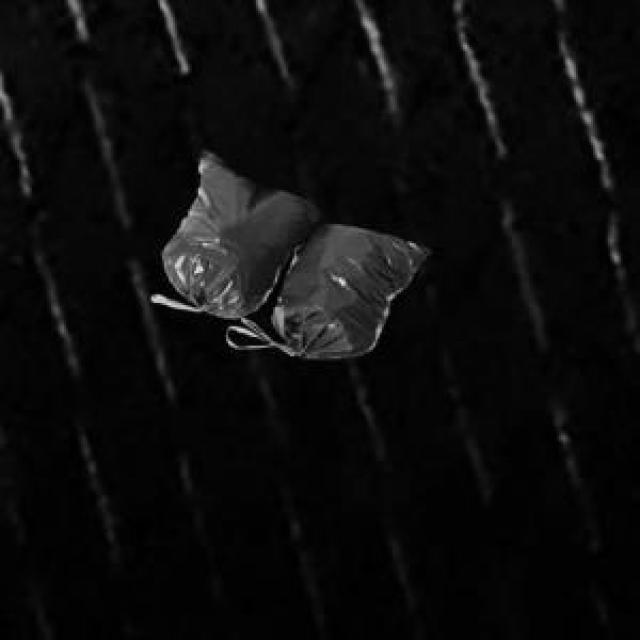miscellaneous trash: (147, 147, 427, 354)
